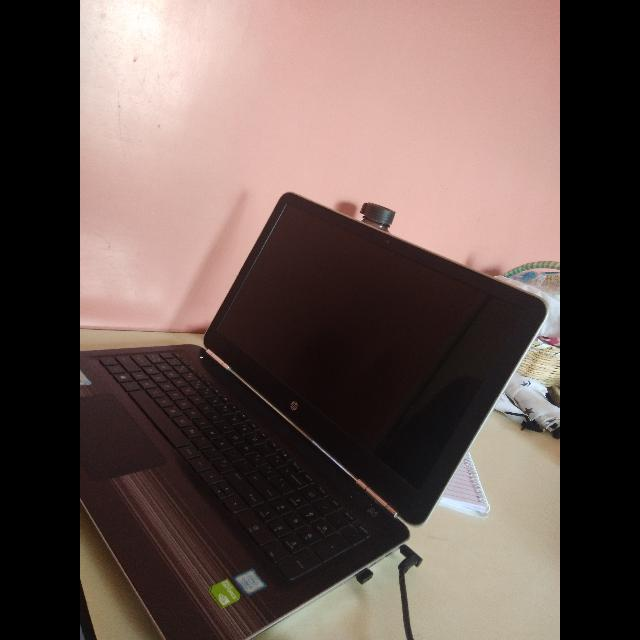Laptop: (80, 185, 554, 640)
